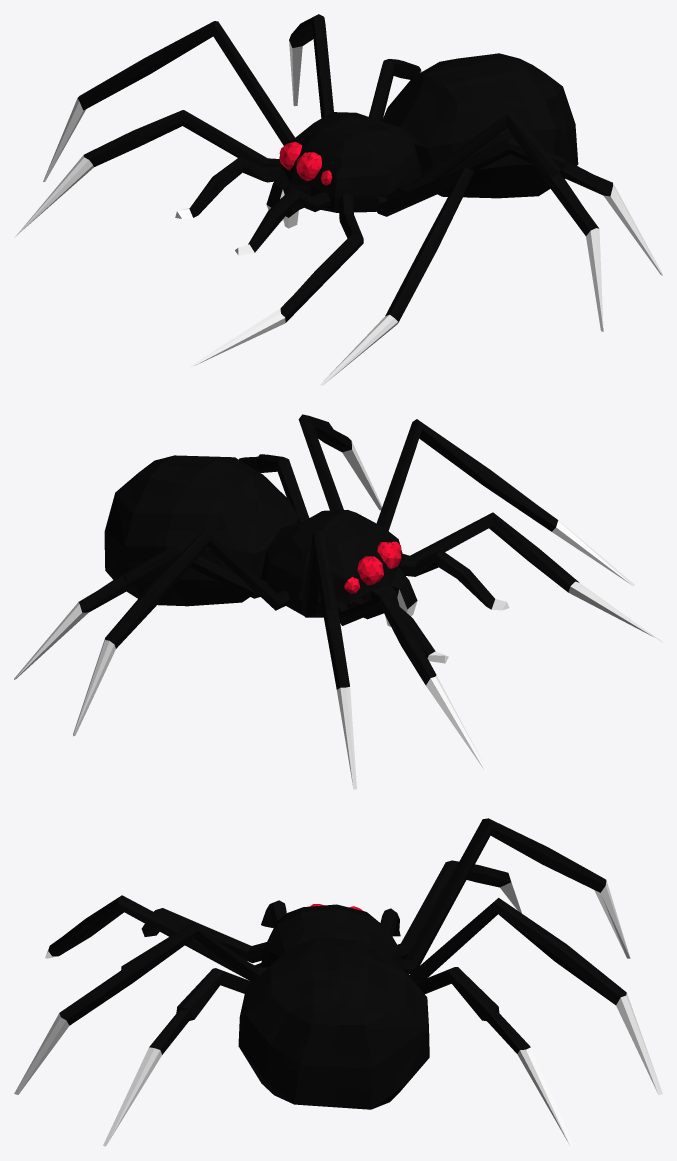
The model's file is spiderIdle12.obj.
The picture shows the model from 3 angles, top to bottom: view 1: azimuth 30°, elevation 25°; view 2: azimuth 150°, elevation 25°; view 3: azimuth 270°, elevation 25°; orthographic projection. The views are drawn at different scales.
Parts seen in each view (by area): view 1: Cube.003_Cube.004; view 2: Cube.003_Cube.004; view 3: Cube.003_Cube.004.
Part boxes in pixels (bbox=[...]): Cube.003_Cube.004: bbox=[14, 14, 662, 385]; Cube.003_Cube.004: bbox=[14, 414, 662, 789]; Cube.003_Cube.004: bbox=[14, 818, 662, 1146].
Bounding box in the file's own units: 29.29 × 11.35 × 34.57.
